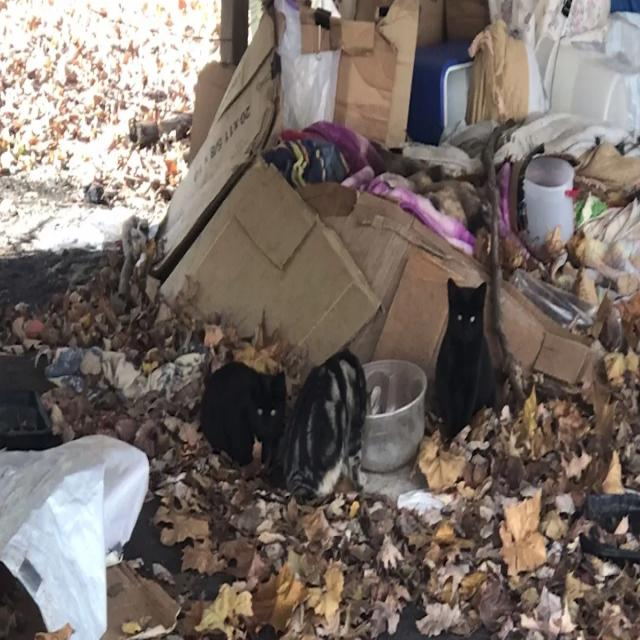cat: (284, 349, 389, 497), (436, 278, 495, 437), (200, 362, 286, 464)
